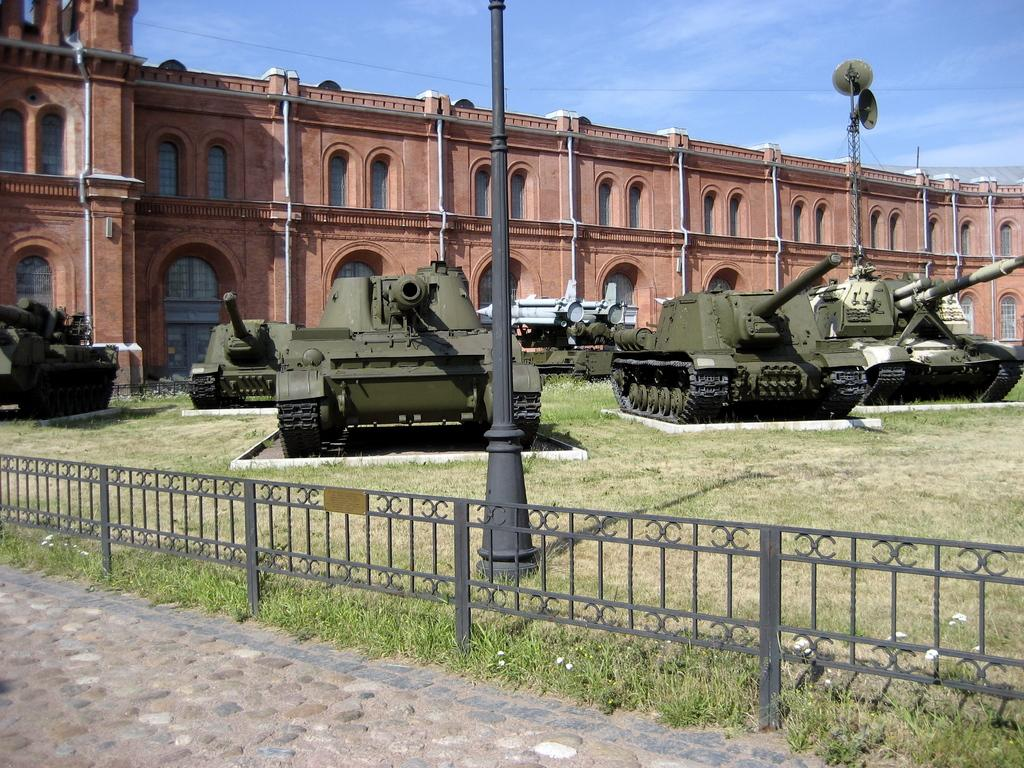Tank: (276, 260, 542, 460), (273, 259, 542, 451), (608, 250, 871, 424), (609, 250, 868, 424), (806, 245, 1023, 406), (808, 253, 1023, 404), (0, 297, 122, 419), (0, 300, 119, 420), (189, 286, 299, 408), (189, 290, 298, 406), (516, 318, 656, 385), (520, 322, 652, 381)
